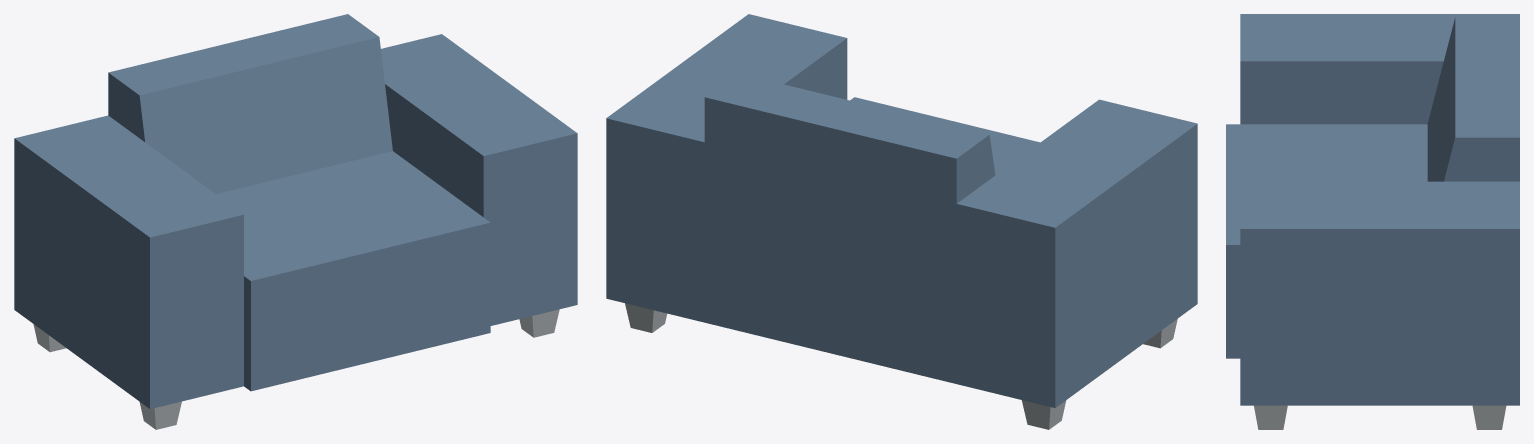
The model's file is sofa-modern-loveseat.glb.
3 renders of one model, left to right at view 1: azimuth 30°, elevation 25°; view 2: azimuth 150°, elevation 25°; view 3: azimuth 270°, elevation 25°, orthographic. The views are drawn at different scales.
Visible parts, largest first — view 1: sofa-modern-loveseat; view 2: sofa-modern-loveseat; view 3: sofa-modern-loveseat.
Part boxes in pixels (bbox=[...]): sofa-modern-loveseat: bbox=[14, 14, 577, 429]; sofa-modern-loveseat: bbox=[606, 14, 1197, 429]; sofa-modern-loveseat: bbox=[1226, 14, 1519, 429].
Bounding box in the file's own units: 1.35 × 0.74 × 0.78.
